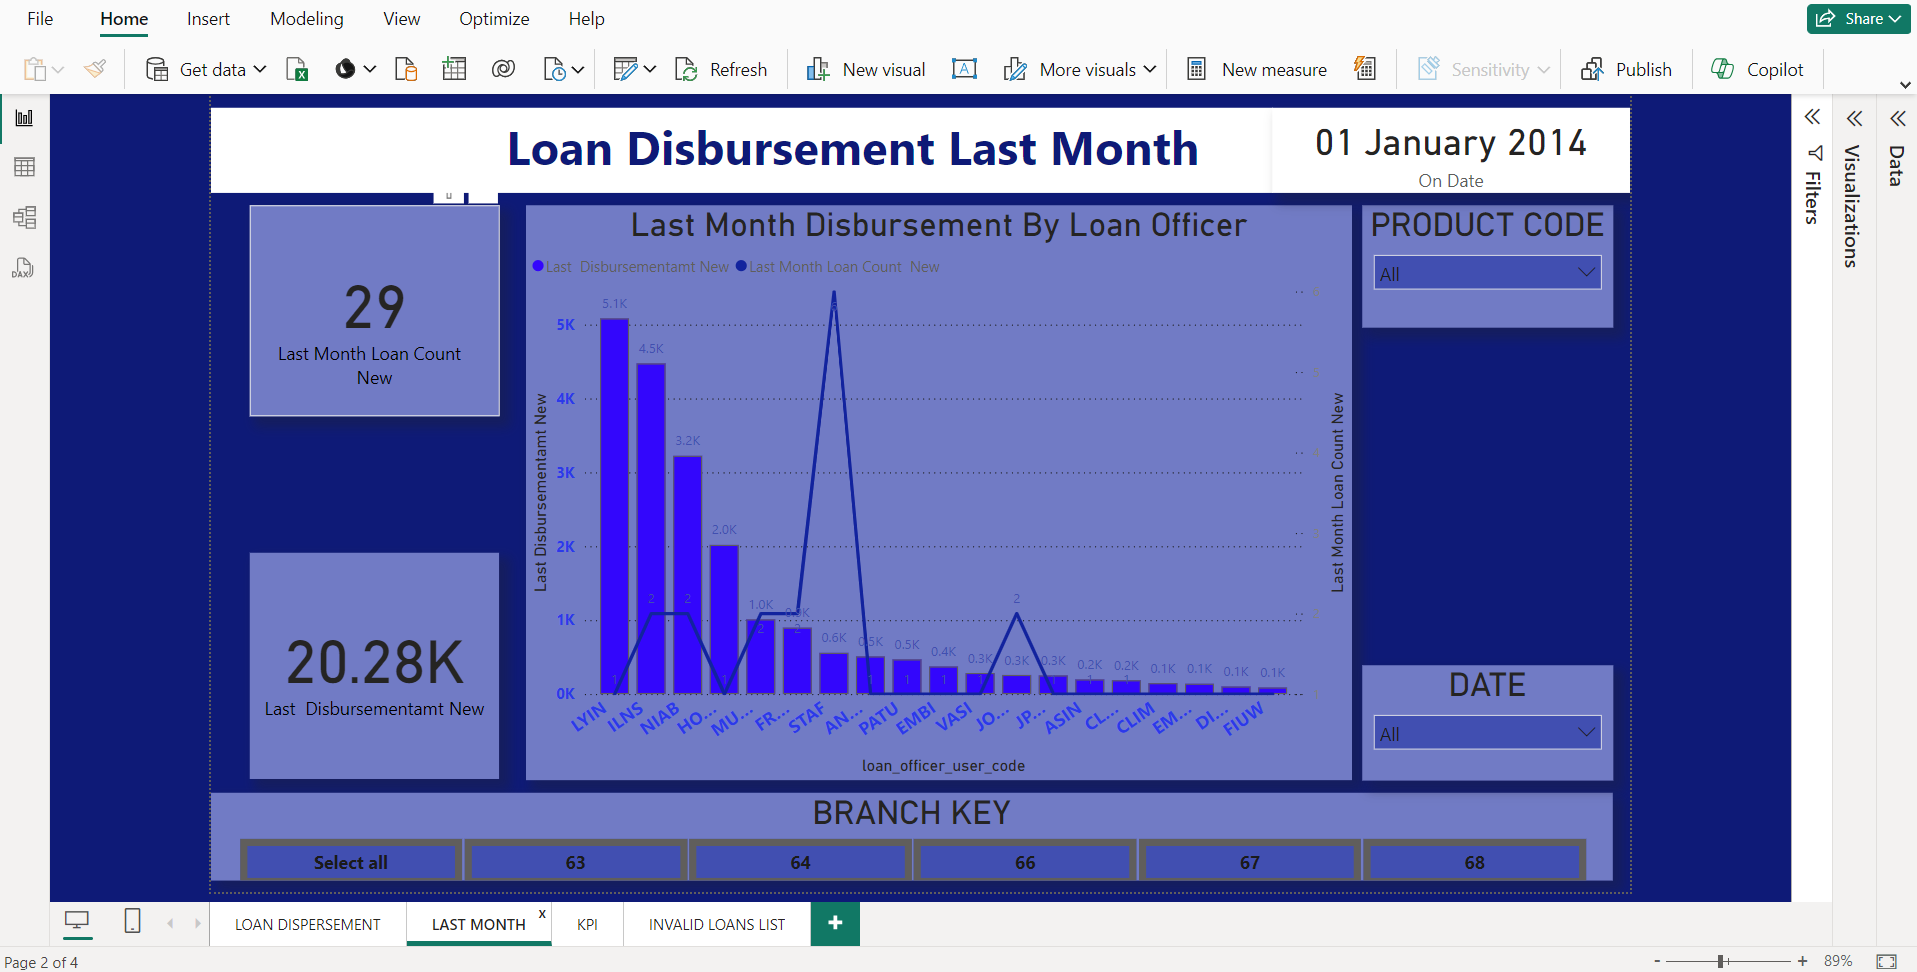

What the dashboard file says about the page in this screenshot:
{"tool":"powerbi","page":{"name":"LAST MONTH","canvas":[1280,720],"ordinal":1},"visuals":[{"type":"lineClusteredColumnComboChart","title":"Last Month Disbursement By Loan Officer","fields":{"Category":["Sheet1.loan_officer_user_code"],"Y":["Sheet1.Last  Disbursementamt New"],"Y2":["Sheet1.Last Month Loan Count  New"]},"box":[283.7,100.3,744.7,518.5],"z":0},{"type":"slicer","title":"PRODUCT CODE","fields":{"Values":["Sheet1.product_key"]},"box":[1038.2,100.3,226.2,110.1],"z":1000},{"type":"card","fields":{"Values":["Sheet1.Last Month Loan Count  New"]},"box":[35.5,100.3,225,190.8],"z":2000},{"type":"card","fields":{"Values":["Sheet1.Last  Disbursementamt New"]},"box":[35.5,413.3,225,204.2],"z":3000},{"type":"textbox","box":[0,12.2,957.5,77],"z":4000},{"type":"slicer","title":"BRANCH KEY","fields":{"Values":["Sheet1.branch_key"]},"box":[0,629.8,1263.8,79.6],"z":5000},{"type":"slicer","title":"DATE","fields":{"Values":["DateTable.FullAlternateDateKey.Variation.Date Hierarchy.Year","DateTable.FullAlternateDateKey.Variation.Date Hierarchy.Day"]},"box":[1038.2,514.8,226.2,103.9],"z":6000},{"type":"card","fields":{"Values":["calender.FullAlternateDateKey"]},"box":[957.5,12.2,322.8,77],"z":7000}]}

Visuals, with their boxes on the page's 1280x720 design canvas (x1, y1, x2, y2). These are canvas units, not pixel positions in the 1917x972 screenshot, which may show the page scaled, cropped or inside an application window:
"Last Month Disbursement By Loan Officer" lineClusteredColumnComboChart: {"left": 284, "top": 100, "right": 1028, "bottom": 619}
"PRODUCT CODE" slicer: {"left": 1038, "top": 100, "right": 1264, "bottom": 210}
card - Sheet1.Last Month Loan Count  New: {"left": 36, "top": 100, "right": 260, "bottom": 291}
card - Sheet1.Last  Disbursementamt New: {"left": 36, "top": 413, "right": 260, "bottom": 618}
textbox: {"left": 0, "top": 12, "right": 958, "bottom": 89}
"BRANCH KEY" slicer: {"left": 0, "top": 630, "right": 1264, "bottom": 709}
"DATE" slicer: {"left": 1038, "top": 515, "right": 1264, "bottom": 619}
card - calender.FullAlternateDateKey: {"left": 958, "top": 12, "right": 1280, "bottom": 89}
